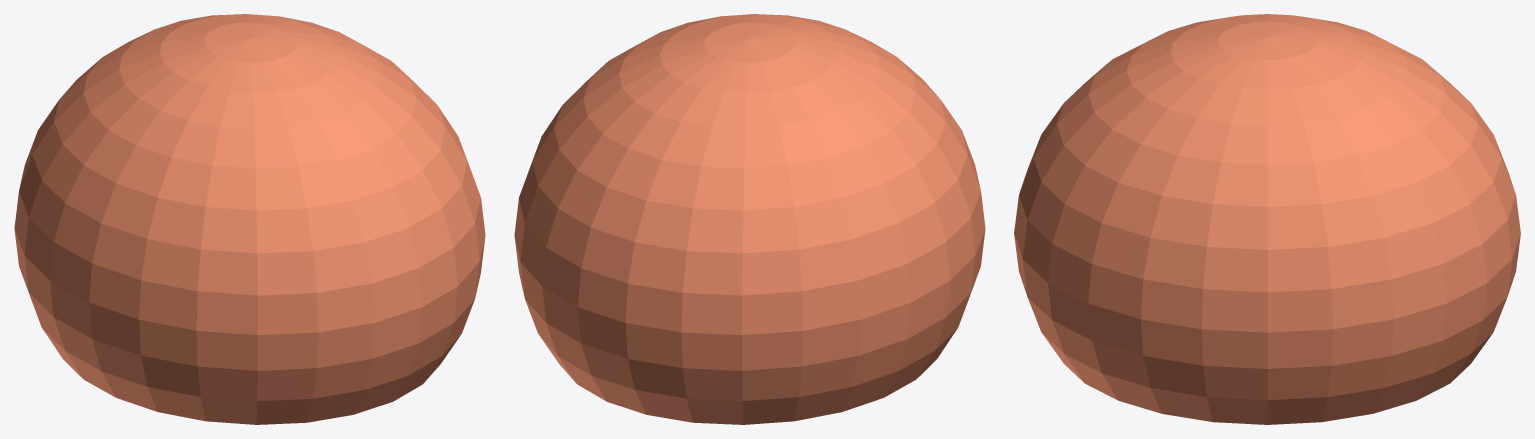
The model's file is helmet_test01.glb.
3 renders of one model, left to right at view 1: azimuth 30°, elevation 25°; view 2: azimuth 150°, elevation 25°; view 3: azimuth 270°, elevation 25°, orthographic.
Visible parts, largest first — view 1: helmet_test01; view 2: helmet_test01; view 3: helmet_test01.
Part boxes in pixels (x1,y1,x2,y2): helmet_test01: (14,14,485,424); helmet_test01: (514,14,985,424); helmet_test01: (1014,14,1520,424).
Bounding box in the file's own units: 0.2142 × 0.1535 × 0.231.
